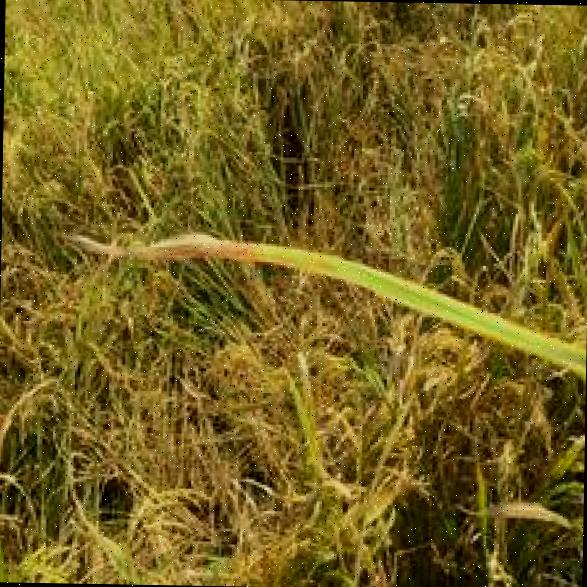Bacteria_Leaf_Blight: (52, 186, 442, 320)
